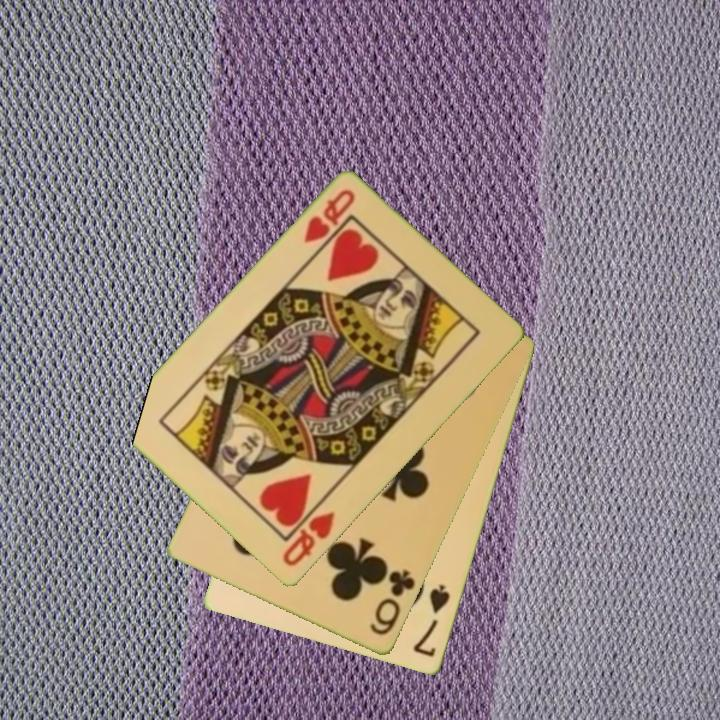6c: (366, 566, 419, 639)
7s: (409, 581, 454, 661)
Qh: (279, 508, 339, 570), (299, 186, 358, 247)
